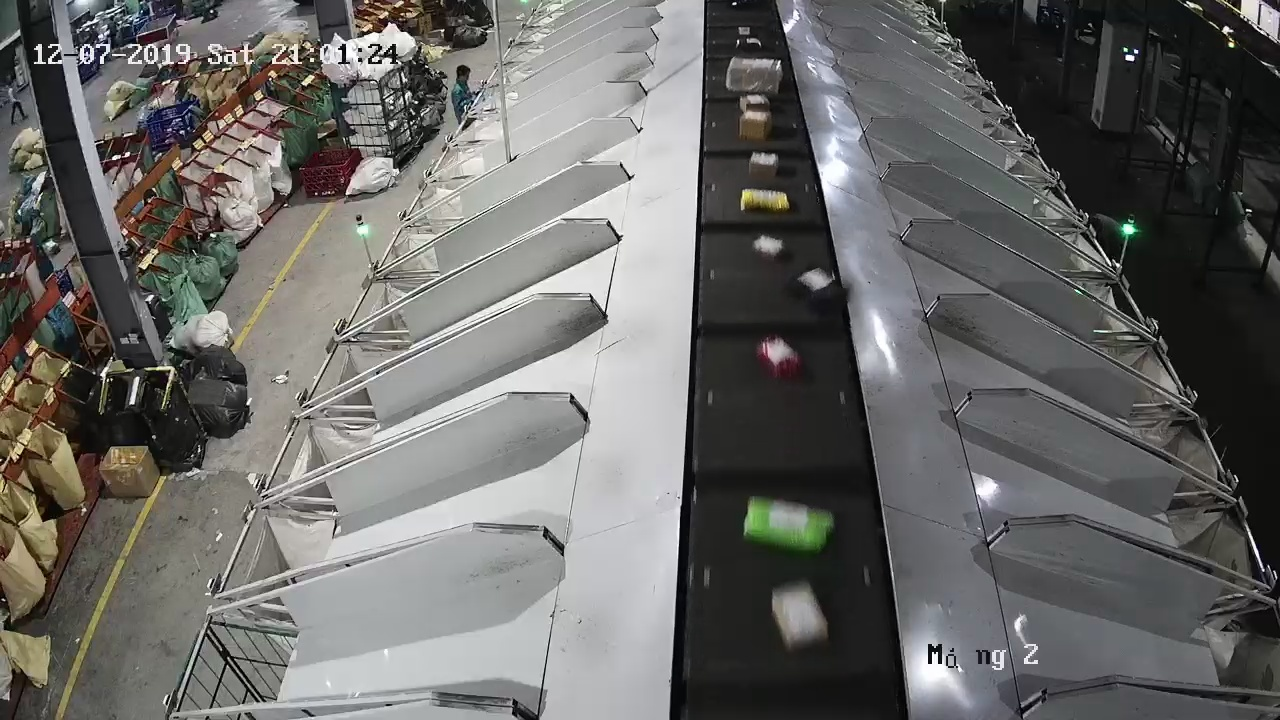parcel: (786, 265, 849, 314)
